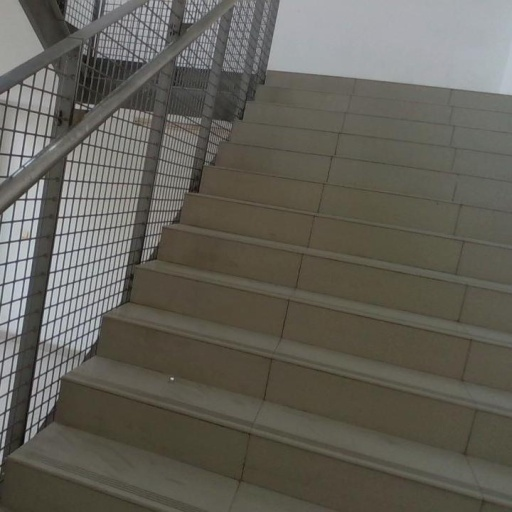Stairs: (2, 72, 512, 512)
